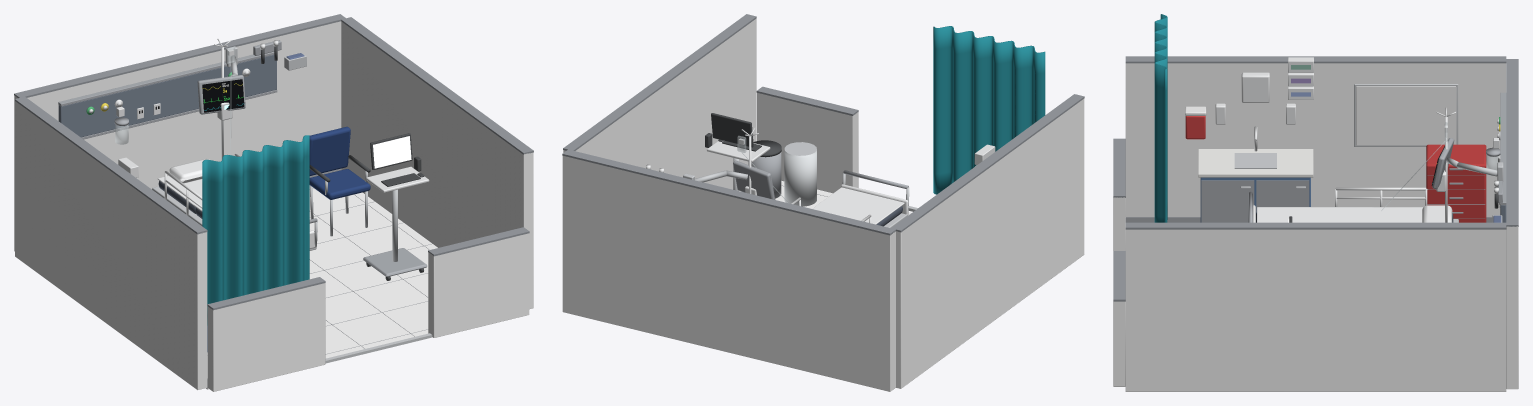
The model's file is room_POD.glb.
3 renders of one model, left to right at view 1: azimuth 30°, elevation 25°; view 2: azimuth 150°, elevation 25°; view 3: azimuth 270°, elevation 25°, orthographic. The views are drawn at different scales.
Parts seen in each view (by area): view 1: wall_left.001, wall_right.001, wall_back.001, curtain.001, floor_room.001, wall_front.002, wall_front.003, headwall.001, cap_back.001, cap_left.001, cap_right.001, chair_back.001 (+13 smaller); view 2: wall_back.001, wall_left.001, wall_right.001, curtain.001, wall_front.003, cap_back.001, cap_left.001, cap_right.001, sheet_foot.001, linen.001, cow_screen.001, monitor.001 (+3 smaller); view 3: wall_right.001, wall_left.001, whiteboard.001, cart.001, cap_right.001, curtain.001, cap_left.001, counter.001, cap_back.001, cab_door_gap.002, wall_back.001, sheet_foot.001 (+16 smaller).
Part boxes in pixels (x1=…): wall_left.001: x1=15, y1=101, x2=207, y2=390; wall_right.001: x1=341, y1=21, x2=533, y2=309; wall_back.001: x1=14, y1=21, x2=341, y2=251; curtain.001: x1=202, y1=135, x2=309, y2=325; floor_room.001: x1=206, y1=185, x2=437, y2=389; wall_front.002: x1=207, y1=283, x2=325, y2=391; wall_front.003: x1=428, y1=233, x2=529, y2=337; headwall.001: x1=58, y1=55, x2=276, y2=137; cap_back.001: x1=14, y1=14, x2=345, y2=98; cap_left.001: x1=15, y1=96, x2=207, y2=234; cap_right.001: x1=341, y1=17, x2=533, y2=154; chair_back.001: x1=309, y1=126, x2=350, y2=175; wall_back.001: x1=562, y1=156, x2=895, y2=391; wall_left.001: x1=896, y1=99, x2=1084, y2=388; wall_right.001: x1=563, y1=18, x2=756, y2=189; curtain.001: x1=933, y1=26, x2=1045, y2=194; wall_front.003: x1=757, y1=93, x2=858, y2=193; cap_back.001: x1=562, y1=149, x2=895, y2=235; cap_left.001: x1=891, y1=94, x2=1084, y2=232; cap_right.001: x1=563, y1=14, x2=756, y2=150; sheet_foot.001: x1=812, y1=187, x2=904, y2=224; linen.001: x1=784, y1=150, x2=816, y2=206; cow_screen.001: x1=711, y1=113, x2=753, y2=147; monitor.001: x1=733, y1=160, x2=775, y2=199; wall_right.001: x1=1125, y1=229, x2=1506, y2=391; wall_left.001: x1=1125, y1=63, x2=1506, y2=216; whiteboard.001: x1=1356, y1=86, x2=1456, y2=145; cart.001: x1=1426, y1=144, x2=1486, y2=222; cap_right.001: x1=1125, y1=222, x2=1506, y2=229; curtain.001: x1=1154, y1=14, x2=1167, y2=222; cap_left.001: x1=1125, y1=56, x2=1506, y2=63; counter.001: x1=1198, y1=149, x2=1313, y2=177; cap_back.001: x1=1506, y1=59, x2=1518, y2=226; cab_door_gap.002: x1=1201, y1=180, x2=1254, y2=222; wall_back.001: x1=1506, y1=226, x2=1518, y2=389; sheet_foot.001: x1=1257, y1=207, x2=1374, y2=222.
Bounding box in the file's own units: 4.04 × 2.42 × 4.04.
Materials: 32 (1 with a texture image).
